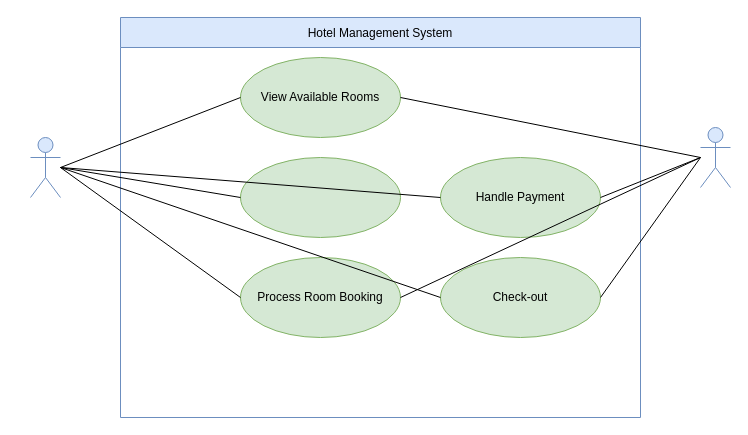
The diagram is 748 pixels wide and 435 high, and some of its shapes have lost their labels. The shapes that lost their labels are listed below. From the top down, each one's centre as x and y in pixels, then its label:
At (x=45, y=167): "Hotel Staff".
At (x=715, y=157): "Guest".
At (x=320, y=197): "View Occupied Rooms".
